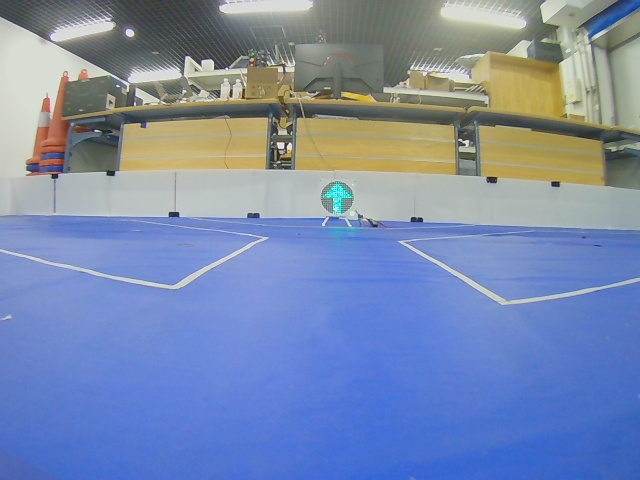straight_green: (320, 181, 354, 216)
